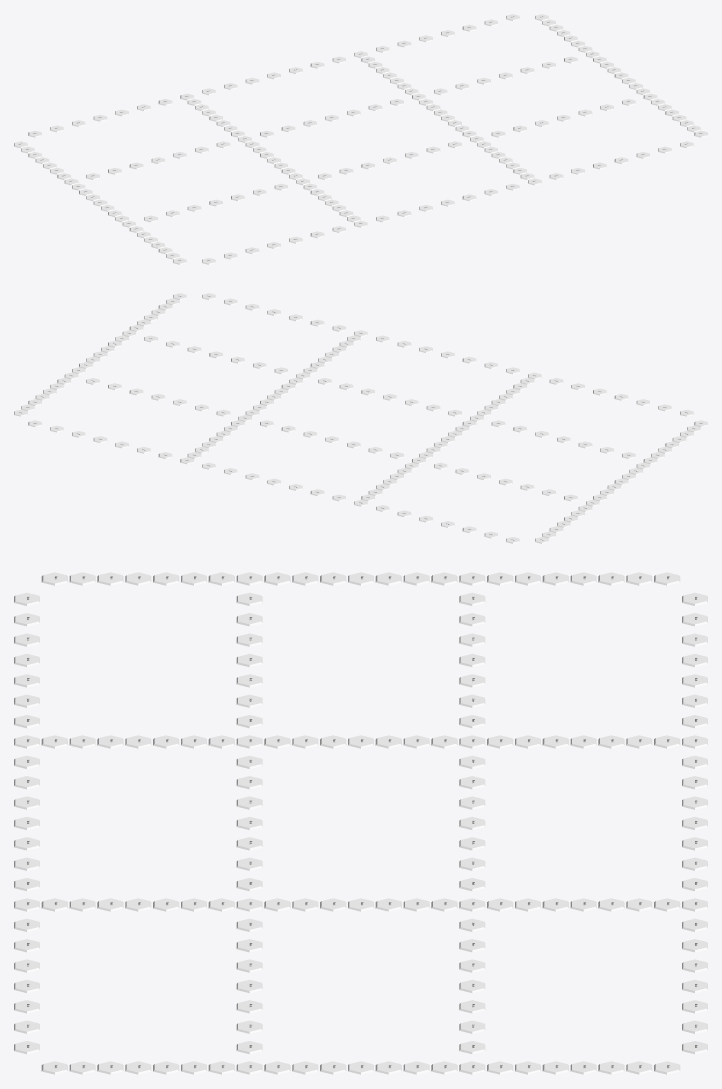
Rendered from Menu_Fill.fbx.
The picture shows the model from 3 angles, top to bottom: view 1: azimuth 30°, elevation 25°; view 2: azimuth 150°, elevation 25°; view 3: azimuth 270°, elevation 25°; orthographic projection. The views are drawn at different scales.
Visible parts, largest first — view 1: Fill; view 2: Fill; view 3: Fill.
Boxes of the visible parts, box(x1,y1,x2,y2) form: Fill: box(14, 14, 707, 264); Fill: box(14, 293, 707, 543); Fill: box(14, 572, 707, 1074).
Size of the model in its own units: 73.87 by 0.1 by 43.19.
